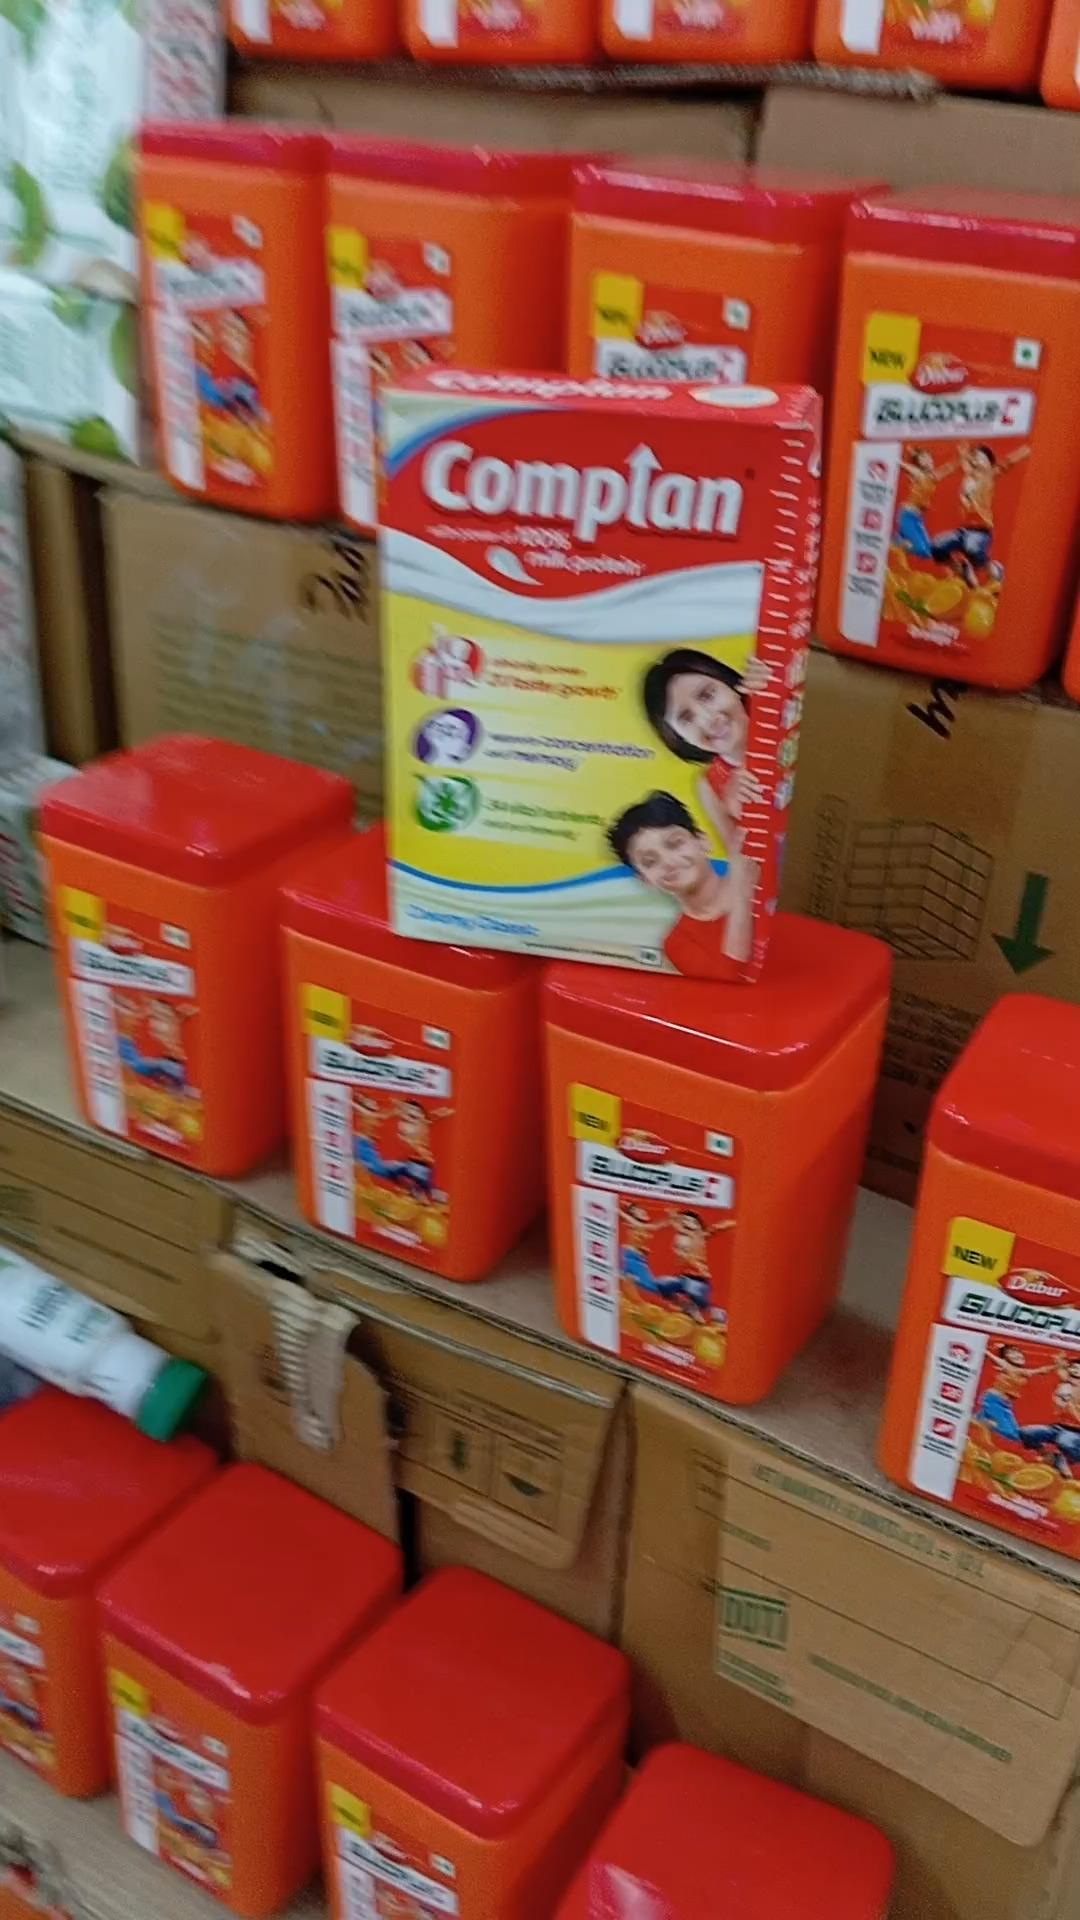COMPLAN_CREAMY_CLASSIC_500_G_PACK: (375, 389, 769, 975)
